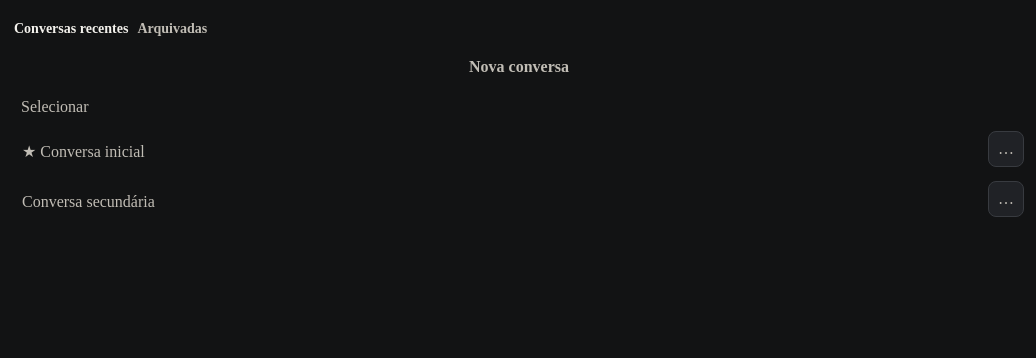
ConversationList regressions › closes the action menu before focusing the rename editor
Click the 1st button with class "conversation-actions-trigger" at (1006, 149), box x1=988 y1=131 x2=1024 y2=167
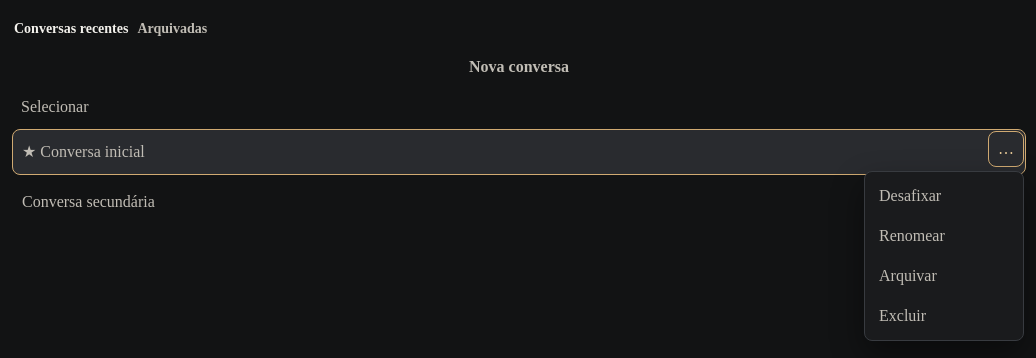
Click the menu item "Renomear" at (944, 236), box x1=869 y1=216 x2=1019 y2=256
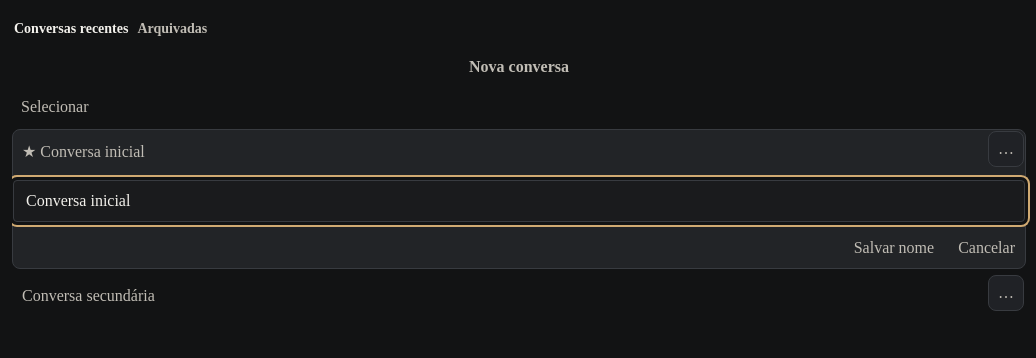
Now the menu with class "conversation-actions-menu" is gone
Now the form with class "conversation-rename" is shown, box x1=13 y1=180 x2=1025 y2=268
Now the element with class "conversation-rename-actions" is shown, box x1=844 y1=228 x2=1025 y2=268
